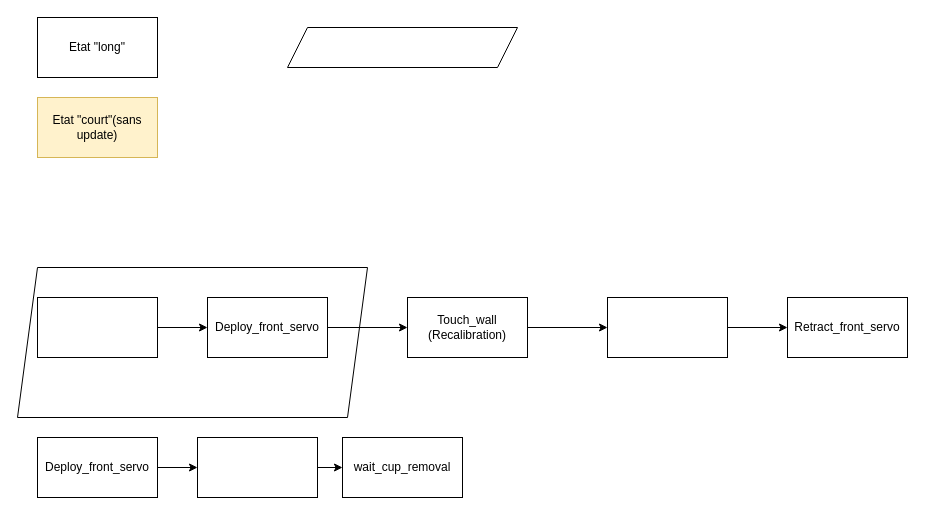
Some shapes in this 925 by 515 pixel diagram are drawn without their labels. Here are the shapes that lost their labels. From the top down, the box of each, then its label:
(286, 26, 518, 68): A effectuer en simultanée(avec possible départ différentié)
(36, 296, 158, 358): Move
(606, 296, 728, 358): wait_cup_succc
(196, 436, 318, 498): release_electro_vanne
